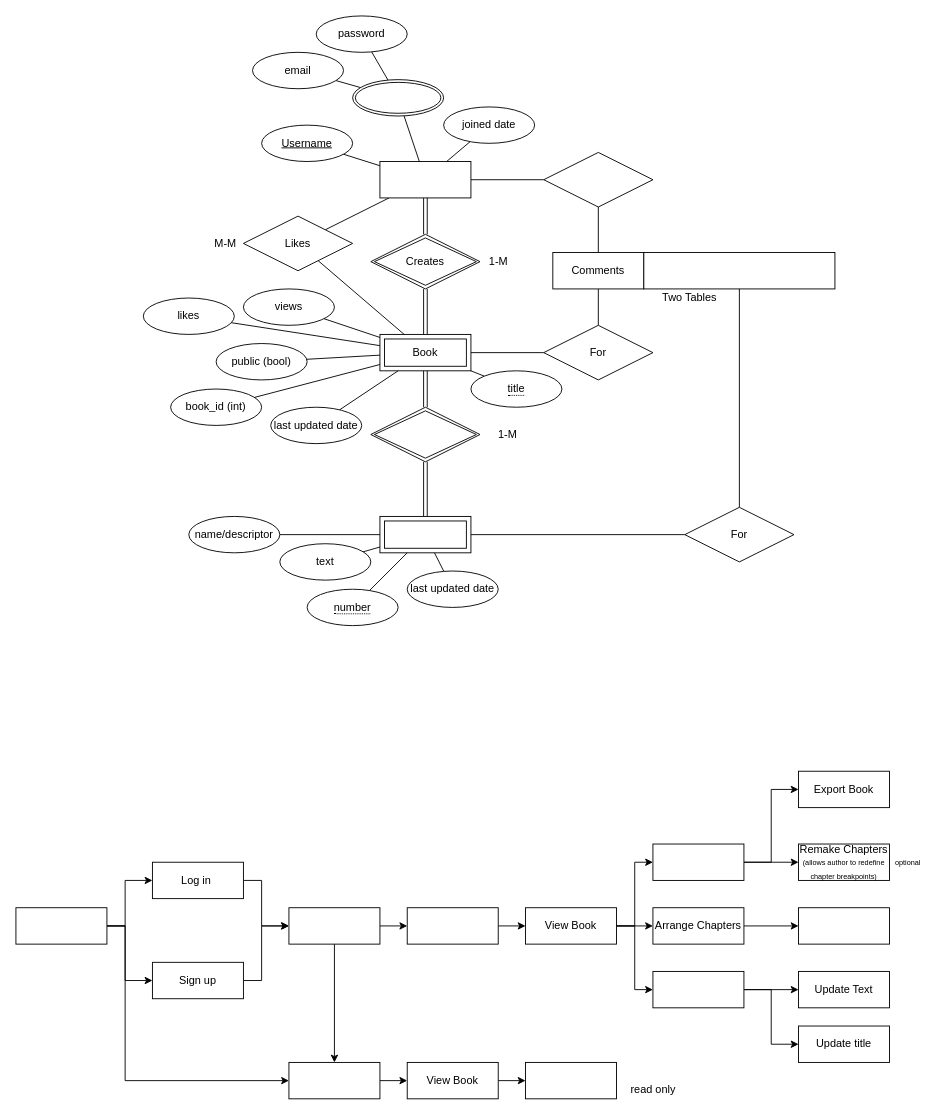
The diagram is 942 pixels wide and 1115 high, and some of its shapes have lost their labels. Each missing label, with the centre of its shape:
( Author | Book/Chapter | Comment ): [739,270]
Author: [425,179]
Browse: [334,1080]
Chapters: [425,534]
Contains: [425,434]
Edit Chapter: [698,989]
Front page: [61,925]
Home Page: [334,925]
login credentials: [398,97]
My Books: [452,925]
Update Chapter Numbers: [844,925]
View book as one file: [698,861]
View Chapter: [571,1080]
Writes: [598,179]
